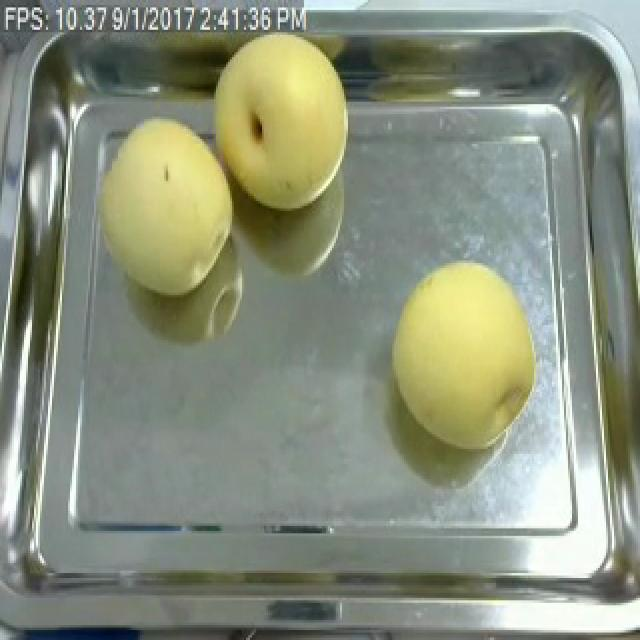Fruit: (380, 250, 548, 457), (86, 104, 244, 305), (198, 22, 360, 218)
